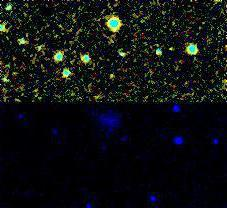star: (12, 21, 42, 51)
